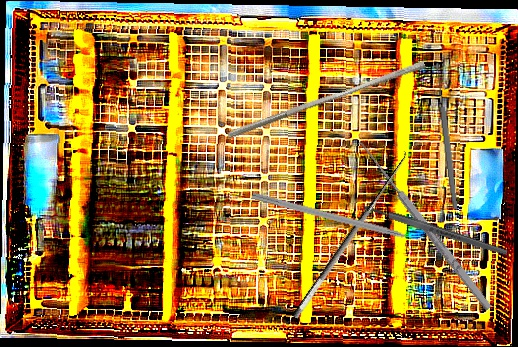Chopper: (248, 191, 430, 256)
Hook Surgical: (348, 137, 495, 318), (278, 143, 415, 321)
Pusher: (226, 53, 427, 147)
Scalpel Handle: (362, 202, 509, 258)
Surgical Spoon: (433, 62, 460, 210)
